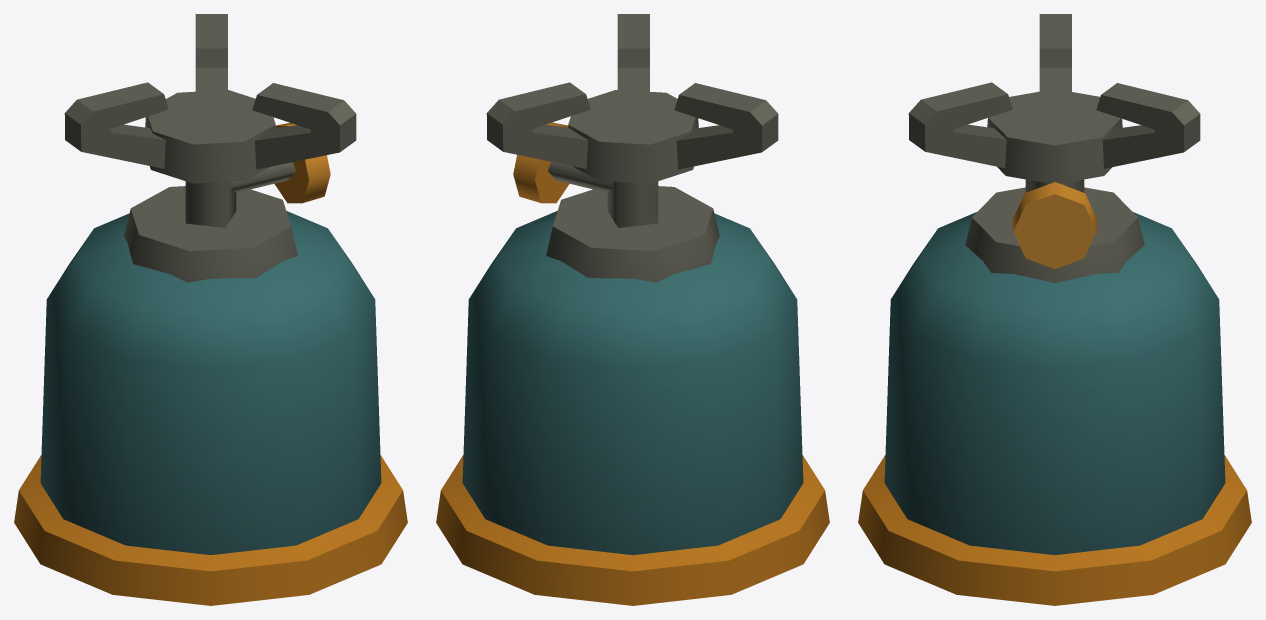
The model's file is SM_BackpackingStove.fbx.
The picture shows the model from 3 angles, left to right: view 1: azimuth 30°, elevation 25°; view 2: azimuth 150°, elevation 25°; view 3: azimuth 270°, elevation 25°; orthographic projection.
Visible parts, largest first — view 1: SM_BackpackingStove; view 2: SM_BackpackingStove; view 3: SM_BackpackingStove.
Boxes of the visible parts, box(x1,y1,x2,y2) form: SM_BackpackingStove: box(14, 14, 407, 605); SM_BackpackingStove: box(436, 14, 829, 605); SM_BackpackingStove: box(858, 14, 1251, 605).
Size of the model in its own units: 18 by 22.57 by 18.
